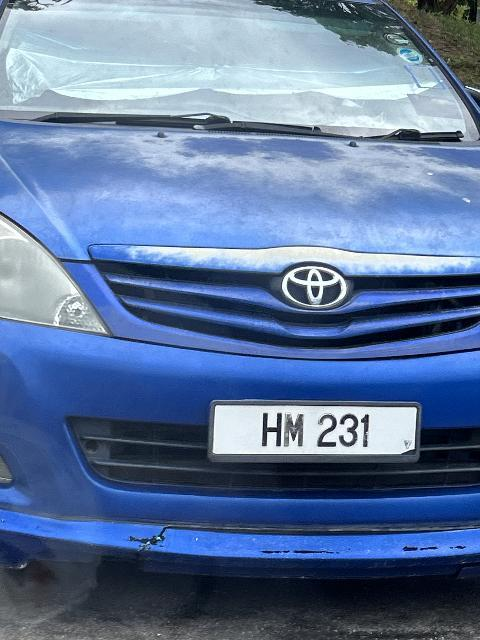HM231: (206, 399, 424, 466)
License_Plate: (206, 399, 424, 466)
car: (1, 2, 480, 587)
